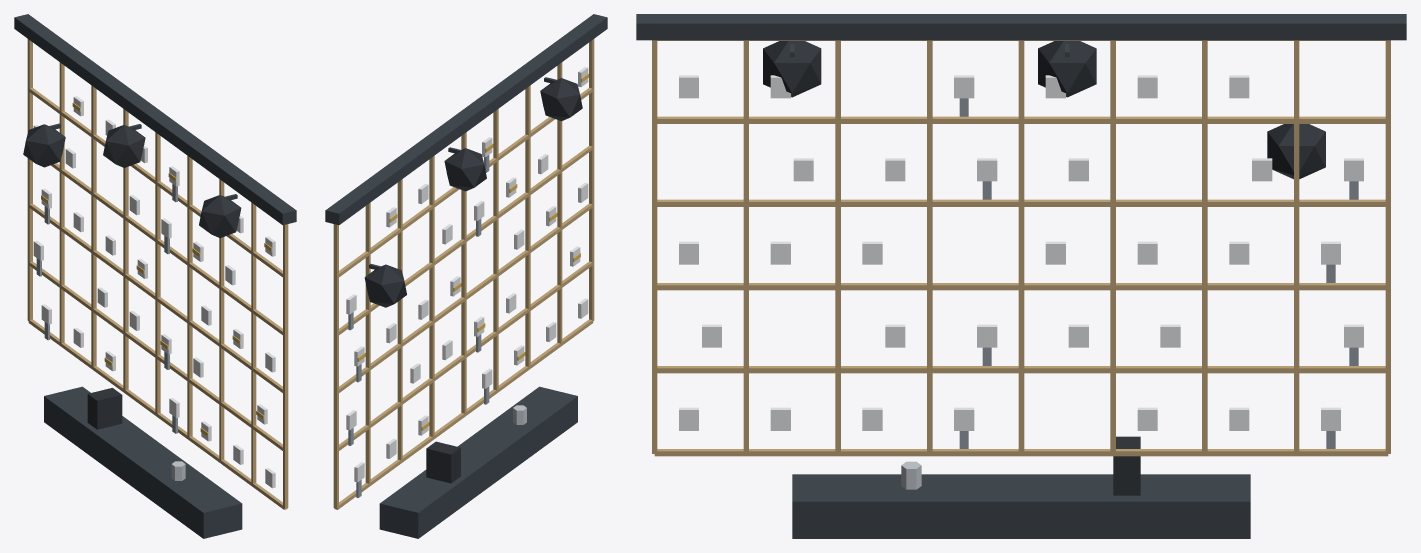
File: egg_carrier_memorial.fbx
The picture shows the model from 3 angles, left to right: view 1: azimuth 30°, elevation 25°; view 2: azimuth 150°, elevation 25°; view 3: azimuth 270°, elevation 25°; orthographic projection. The views are drawn at different scales.
Visible parts, largest first — view 1: egg_carrier_memorial; view 2: egg_carrier_memorial; view 3: egg_carrier_memorial.
Part boxes in pixels (x1,y1,x2,y2): egg_carrier_memorial: (14, 14, 296, 538); egg_carrier_memorial: (325, 14, 607, 538); egg_carrier_memorial: (636, 14, 1406, 538).
Size of the model in its own units: 147 by 1240 by 1680.
